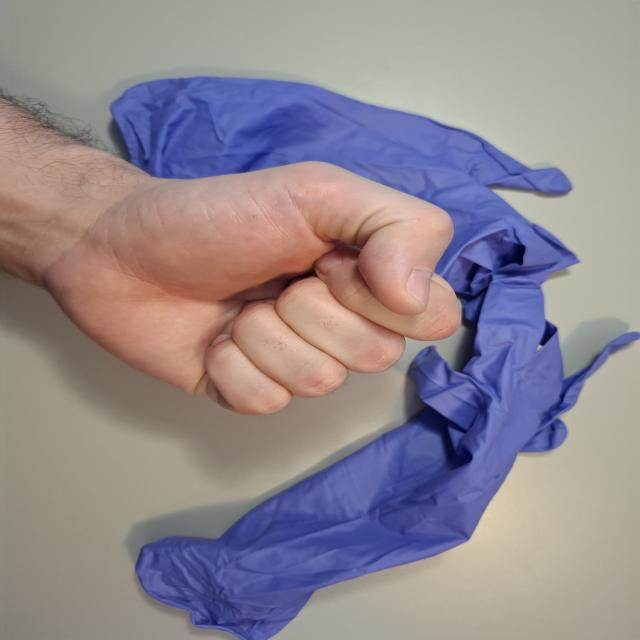glove_off: (30, 157, 465, 419)
